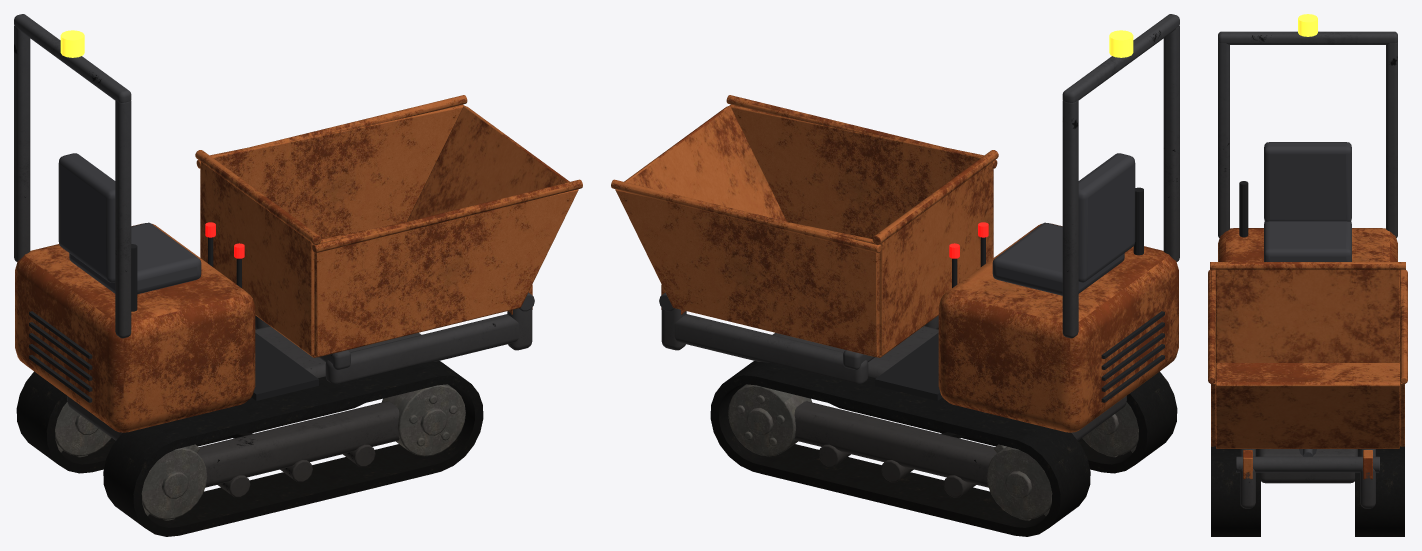
File: dumper_rusty.glb
3 renders of one model, left to right at view 1: azimuth 30°, elevation 25°; view 2: azimuth 150°, elevation 25°; view 3: azimuth 270°, elevation 25°, orthographic. The views are drawn at different scales.
Visible parts, largest first — view 1: Skip, EngineCover, TrackBand, Chassis, RollBar, Seat, BodyDetails, TrackWheelR1, TrackWheelR0, TrackWheelL0; view 2: Skip, EngineCover, TrackBand, Chassis, RollBar, Seat, BodyDetails, TrackWheelL1, TrackWheelL0, TrackWheelR0; view 3: Skip, Seat, RollBar, TrackBand, Chassis, EngineCover, BodyDetails, Beacon.
Part boxes in pixels (x1,y1,x2,y2): Skip: (195, 95, 582, 357); EngineCover: (15, 223, 255, 432); TrackBand: (16, 328, 483, 536); Chassis: (67, 292, 534, 497); RollBar: (14, 14, 131, 338); Seat: (58, 153, 201, 294); BodyDetails: (29, 244, 318, 402); TrackWheelR1: (381, 384, 465, 456); TrackWheelR0: (141, 444, 207, 520); TrackWheelL0: (55, 402, 111, 457); Skip: (611, 95, 998, 357); EngineCover: (938, 223, 1178, 432); TrackBand: (710, 328, 1177, 536); Chassis: (659, 292, 1126, 497); RollBar: (1062, 14, 1179, 338); Seat: (992, 153, 1135, 295); BodyDetails: (875, 187, 1164, 402); TrackWheelL1: (728, 384, 812, 456); TrackWheelL0: (986, 444, 1052, 520); TrackWheelR0: (1082, 402, 1138, 457); Skip: (1208, 262, 1407, 479); Seat: (1264, 142, 1351, 261); RollBar: (1218, 31, 1397, 237); TrackBand: (1211, 446, 1404, 536); Chassis: (1236, 449, 1379, 508); EngineCover: (1218, 228, 1397, 261); BodyDetails: (1239, 181, 1248, 237); Beacon: (1298, 14, 1317, 36).
Size of the model in its own units: 2.22 by 2.15 by 0.9983.
8 materials, 4 textured.
